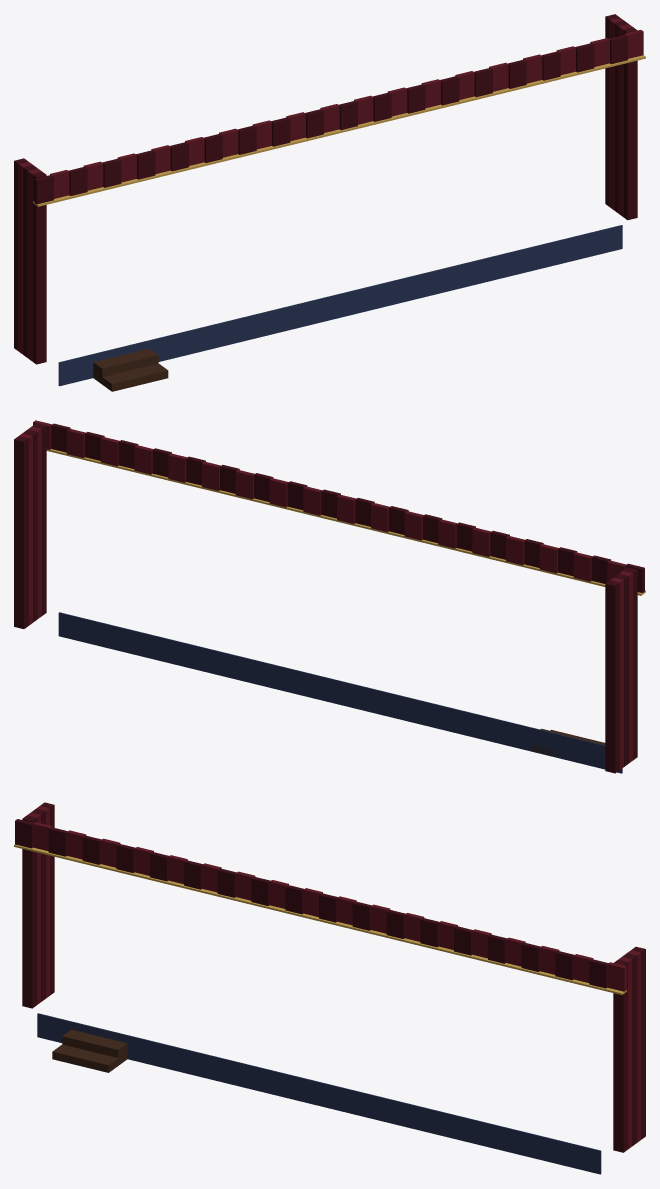
The model's file is StageDress.obj.
3 views of the same model, one above another, from view 1: azimuth 30°, elevation 25°; view 2: azimuth 150°, elevation 25°; view 3: azimuth 330°, elevation 25° (orthographic).
Visible parts, largest first — view 1: StageDress; view 2: StageDress; view 3: StageDress.
Boxes of the visible parts, x1=… form: StageDress: x1=14, y1=14, x2=645, y2=391; StageDress: x1=14, y1=420, x2=645, y2=773; StageDress: x1=14, y1=802, x2=645, y2=1174.
Bounding box in the file's own units: 10.8 × 3.58 × 1.39.
1 material, 1 textured.
